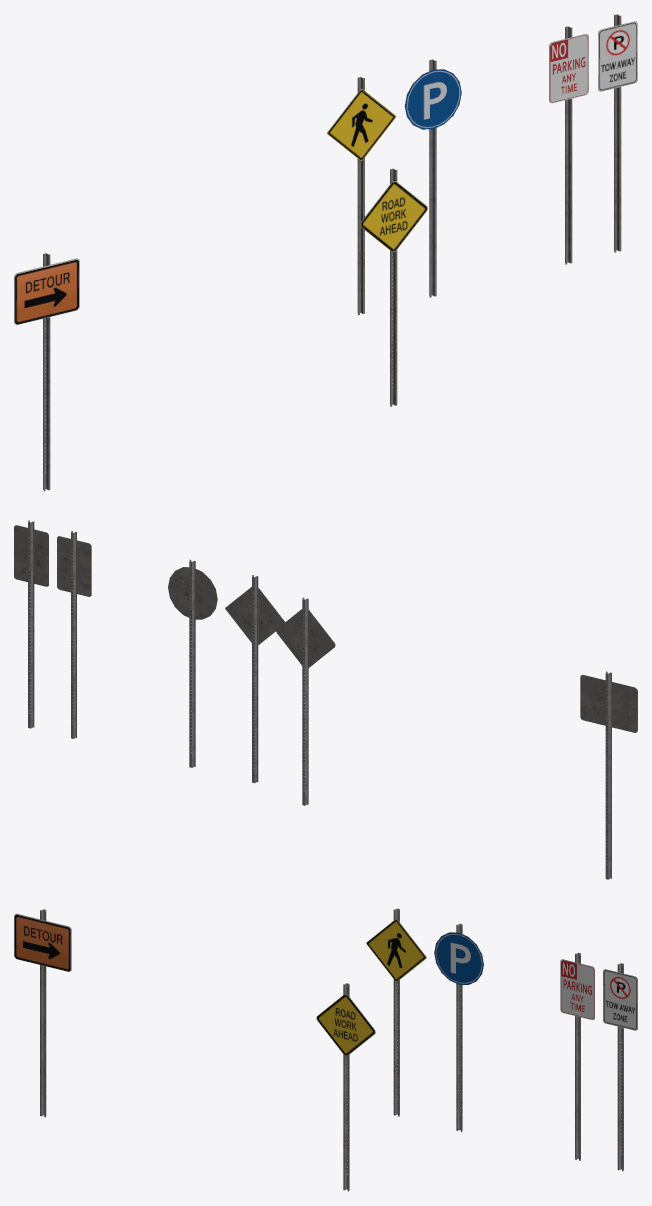
File: roadsigns.glb
3 views of the same model, one above another, from view 1: azimuth 30°, elevation 25°; view 2: azimuth 150°, elevation 25°; view 3: azimuth 330°, elevation 25° (orthographic). The views are drawn at different scales.
Visible parts, largest first — view 1: Cube.067_23, Cube.083_38, Cube.071_27, Cube.076_32, Cube.070_26, Cube.044_0; view 2: Cube.067_23, Cube.083_38, Cube.071_27, Cube.076_32, Cube.070_26, Cube.044_0; view 3: Cube.067_23, Cube.083_38, Cube.071_27, Cube.076_32, Cube.070_26, Cube.044_0.
Boxes of the visible parts, x1,y1,x2,y2 form: Cube.067_23: [14, 253, 79, 491]; Cube.083_38: [404, 59, 461, 297]; Cube.071_27: [360, 168, 427, 406]; Cube.076_32: [327, 77, 396, 315]; Cube.070_26: [598, 14, 637, 252]; Cube.044_0: [549, 26, 588, 264]; Cube.067_23: [580, 671, 637, 879]; Cube.083_38: [168, 559, 217, 767]; Cube.071_27: [276, 597, 335, 805]; Cube.076_32: [225, 575, 285, 783]; Cube.070_26: [14, 520, 48, 728]; Cube.044_0: [57, 531, 91, 738]; Cube.067_23: [14, 909, 71, 1117]; Cube.083_38: [434, 923, 483, 1131]; Cube.071_27: [316, 983, 375, 1191]; Cube.076_32: [366, 908, 426, 1116]; Cube.070_26: [603, 963, 637, 1171]; Cube.044_0: [560, 952, 594, 1160].
Size of the model in its own units: 33.75 by 14.04 by 4.15.
Materials: 1 (1 with a texture image).
